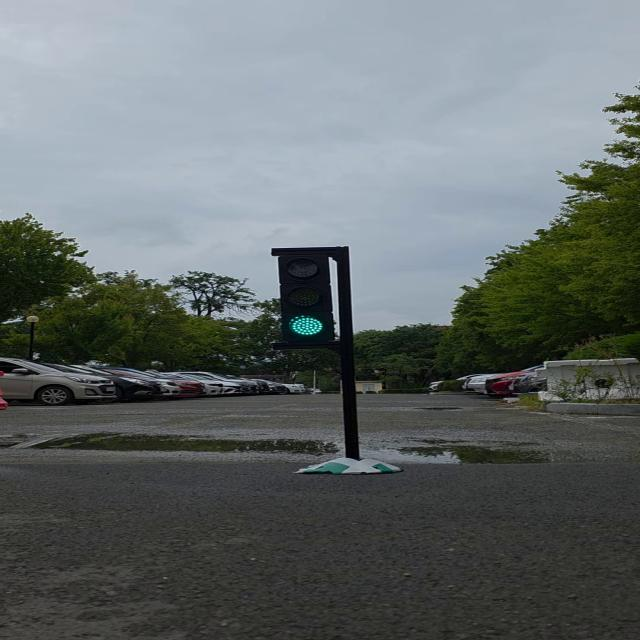green: (280, 248, 348, 348)
